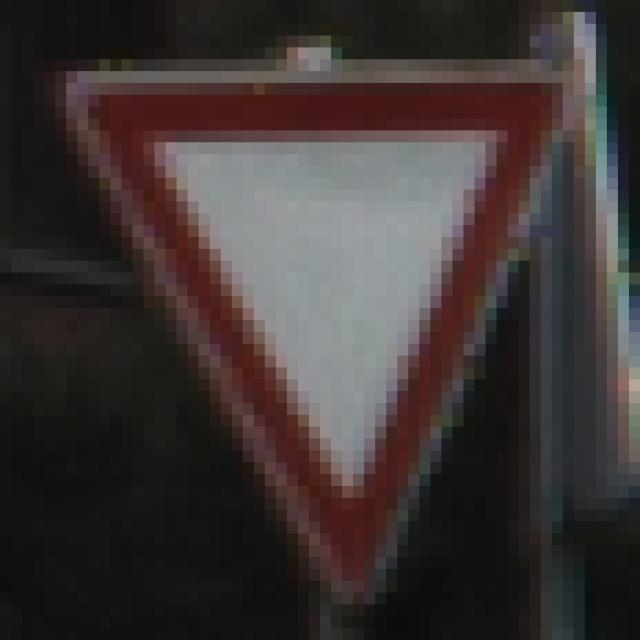Give Way: (67, 60, 586, 582)
